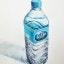plastic: (23, 0, 51, 64)
